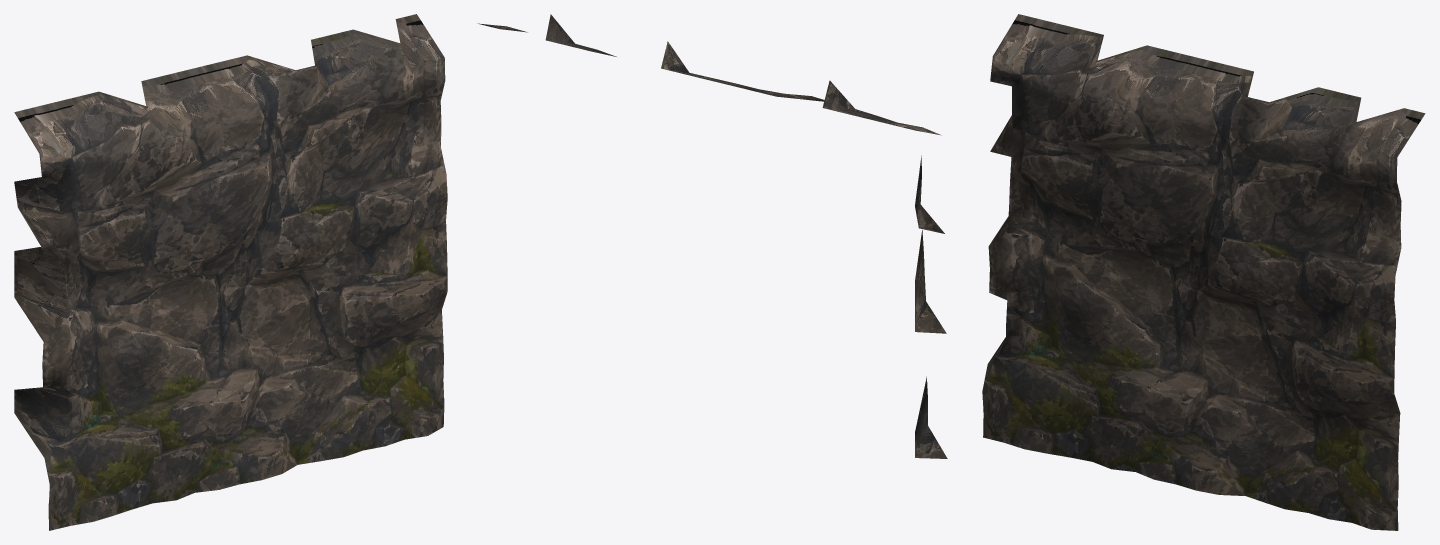
File: wall_rock.glb
The picture shows the model from 3 angles, left to right: view 1: azimuth 30°, elevation 25°; view 2: azimuth 150°, elevation 25°; view 3: azimuth 330°, elevation 25°; orthographic projection. The views are drawn at different scales.
Parts seen in each view (by area): view 1: m; view 2: m; view 3: m.
Boxes of the visible parts, x1=… form: m: x1=14, y1=14, x2=447, y2=530; m: x1=478, y1=14, x2=947, y2=458; m: x1=982, y1=14, x2=1425, y2=530.
Size of the model in its own units: 10 by 9.33 by 1.57.
1 material, 1 textured.
